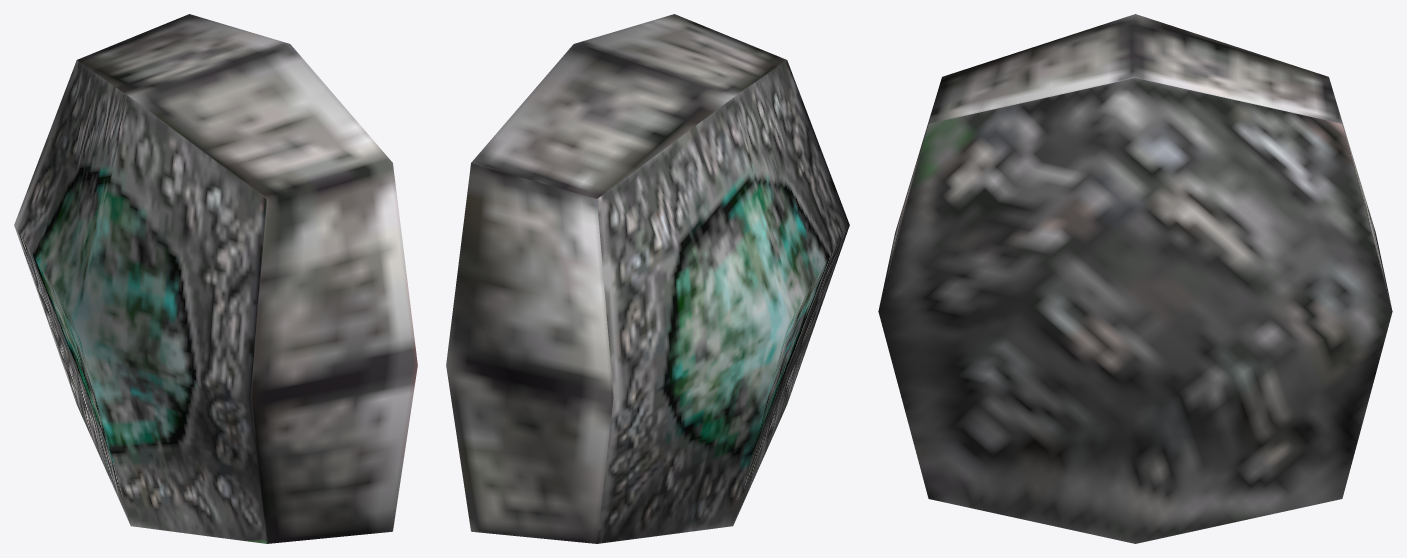
File: earring_s15_m_l1.fbx
The picture shows the model from 3 angles, left to right: view 1: azimuth 30°, elevation 25°; view 2: azimuth 150°, elevation 25°; view 3: azimuth 270°, elevation 25°; orthographic projection.
Parts seen in each view (by area): view 1: mesh_node; view 2: mesh_node; view 3: mesh_node.
Part boxes in pixels (x1,y1,x2,y2): mesh_node: (14,14,417,543); mesh_node: (446,14,849,543); mesh_node: (878,14,1392,543).
Size of the model in its own units: 0.0144 by 0.0295 by 0.0295.
